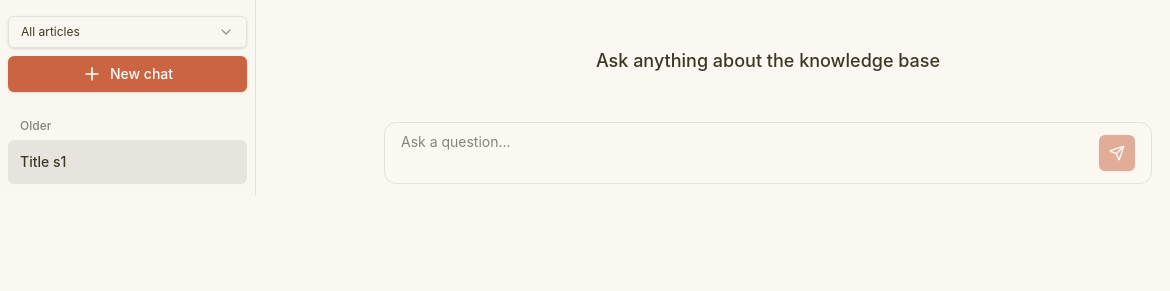
Test case: Chat page › stream events › passes through a status message the backend phrased itself
Type "what is kaas" into the text box. click: (746, 153)
box: [401,131,1091,175]
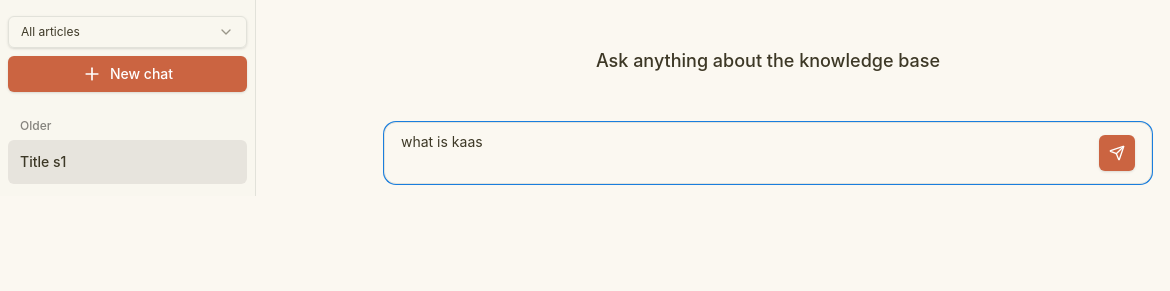
Press Enter
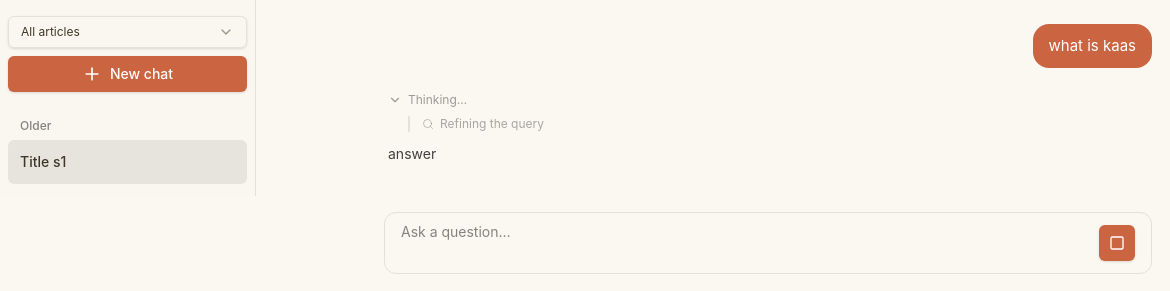
Expected: the text "Refining the query" is shown, [440,116,544,132]
